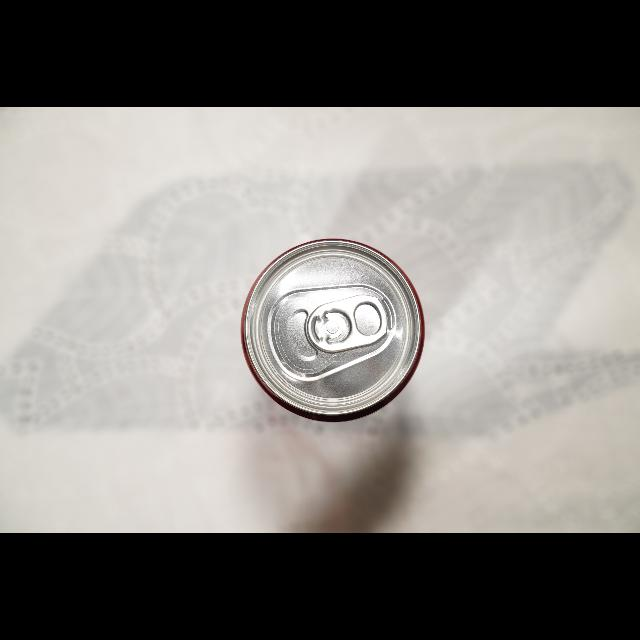coca_cola: (240, 238, 426, 422)
